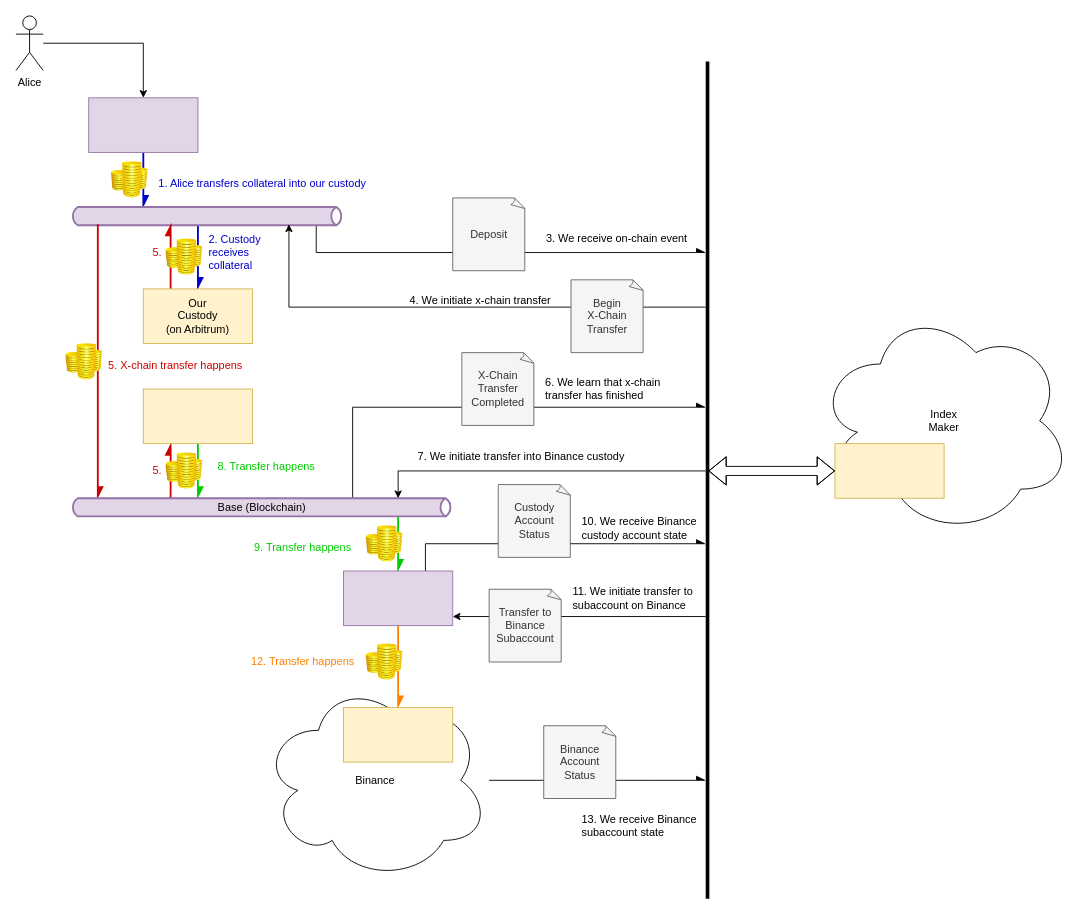
The diagram is 1087 pixels wide and 916 high, and some of its shapes have lost their labels. The shapes that lost their labels are listed below. From the top down, each one's centre as x and y in pixels, then its label:
At pixel 143 124: "Alice's Wallet".
At pixel 206 216: "Arbitrum (Blockchain)".
At pixel 197 416: "Our Custody (on Base)".
At pixel 889 470: "Collateral Manager".
At pixel 398 598: "Binance Custody".
At pixel 398 734: "Our Subaccount (on Binance)".
